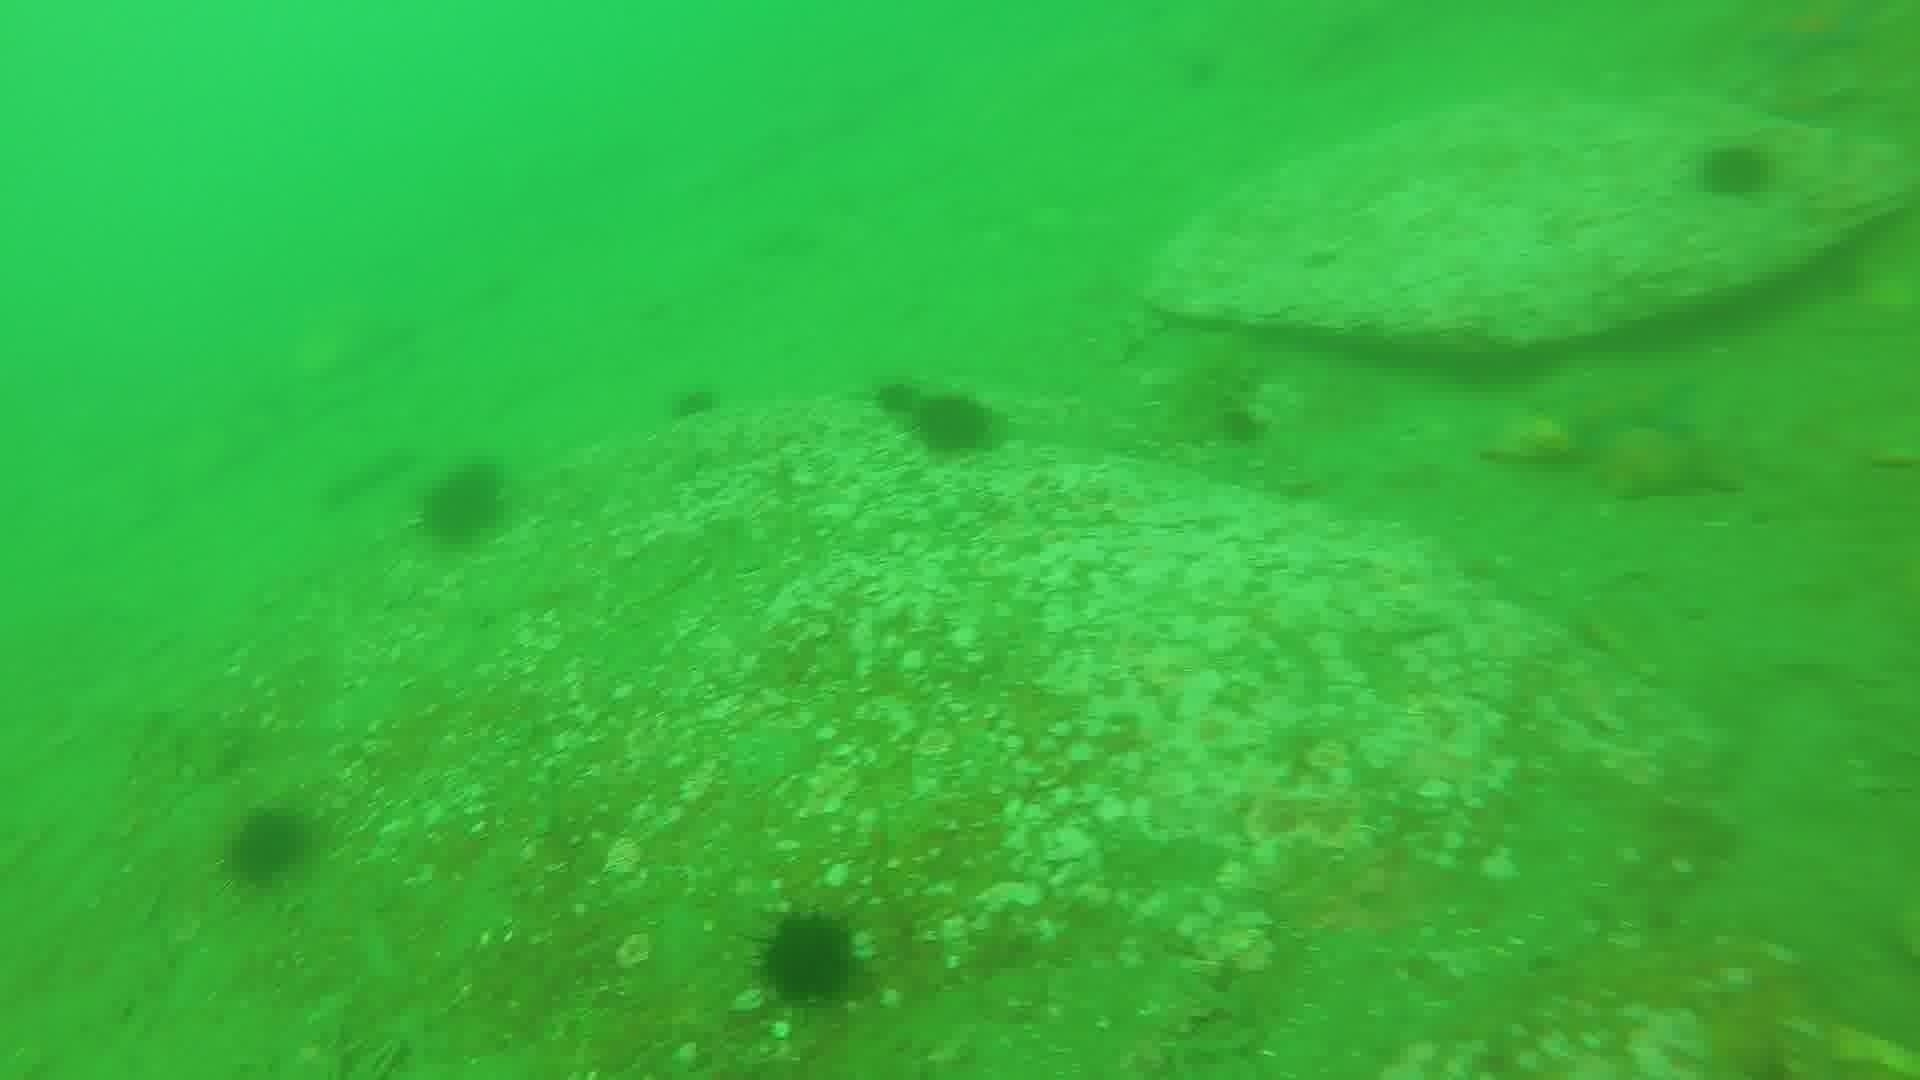echinus: (752, 907, 862, 1011), (411, 458, 512, 551), (218, 802, 316, 891), (903, 385, 1002, 463), (1692, 136, 1778, 206), (866, 372, 934, 434), (1209, 398, 1273, 452), (665, 378, 725, 427)
starfish: (1520, 363, 1704, 448), (1580, 418, 1745, 506), (1738, 3, 1879, 73)
